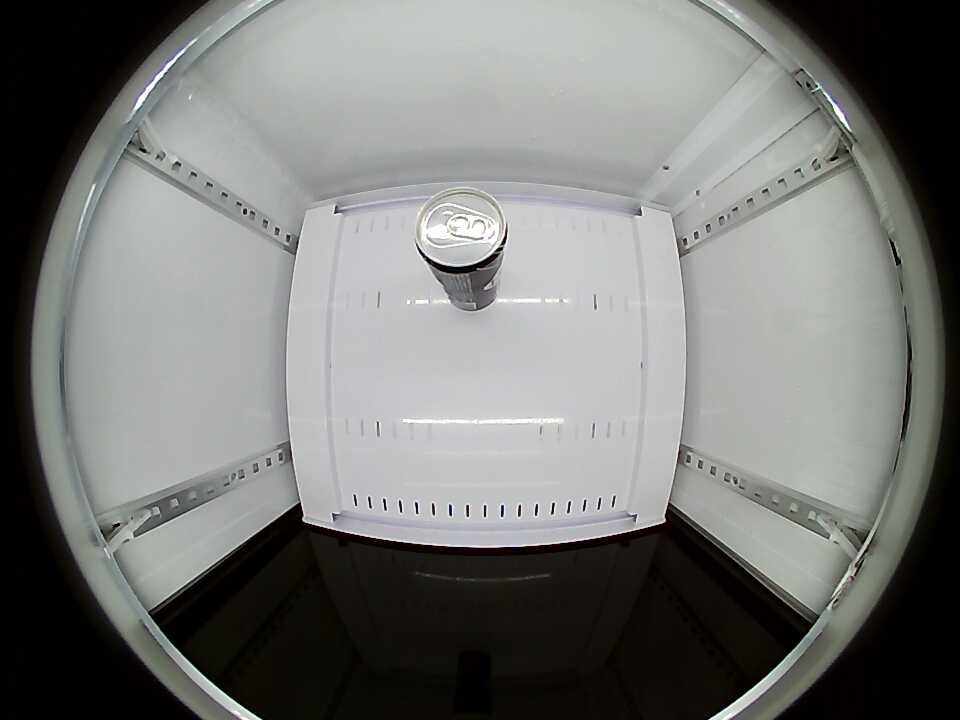qingdaowangzi-1: (414, 188, 509, 281)
